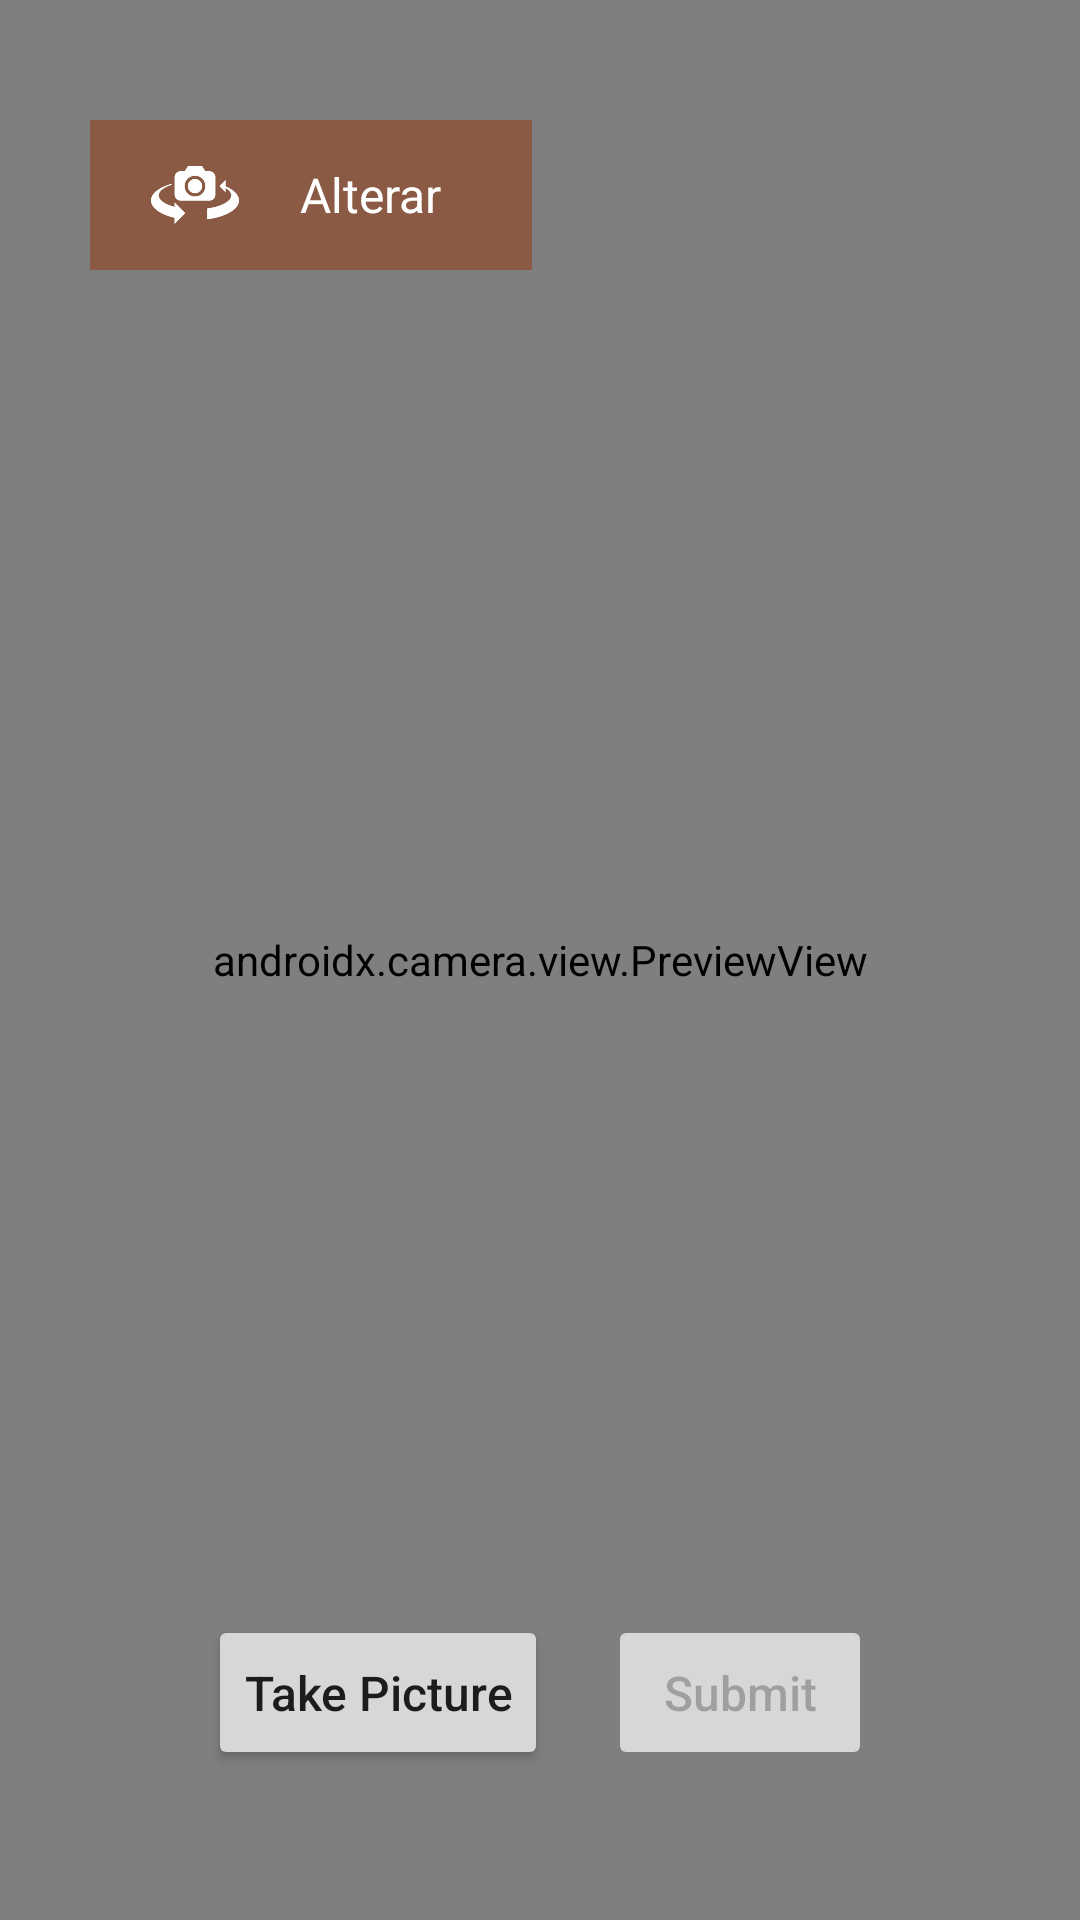

Icons on this 1080×1920 Android screen, each with its box as bbox=[x1, y1, x2, y2]:
flip: bbox=[151, 166, 239, 224]
